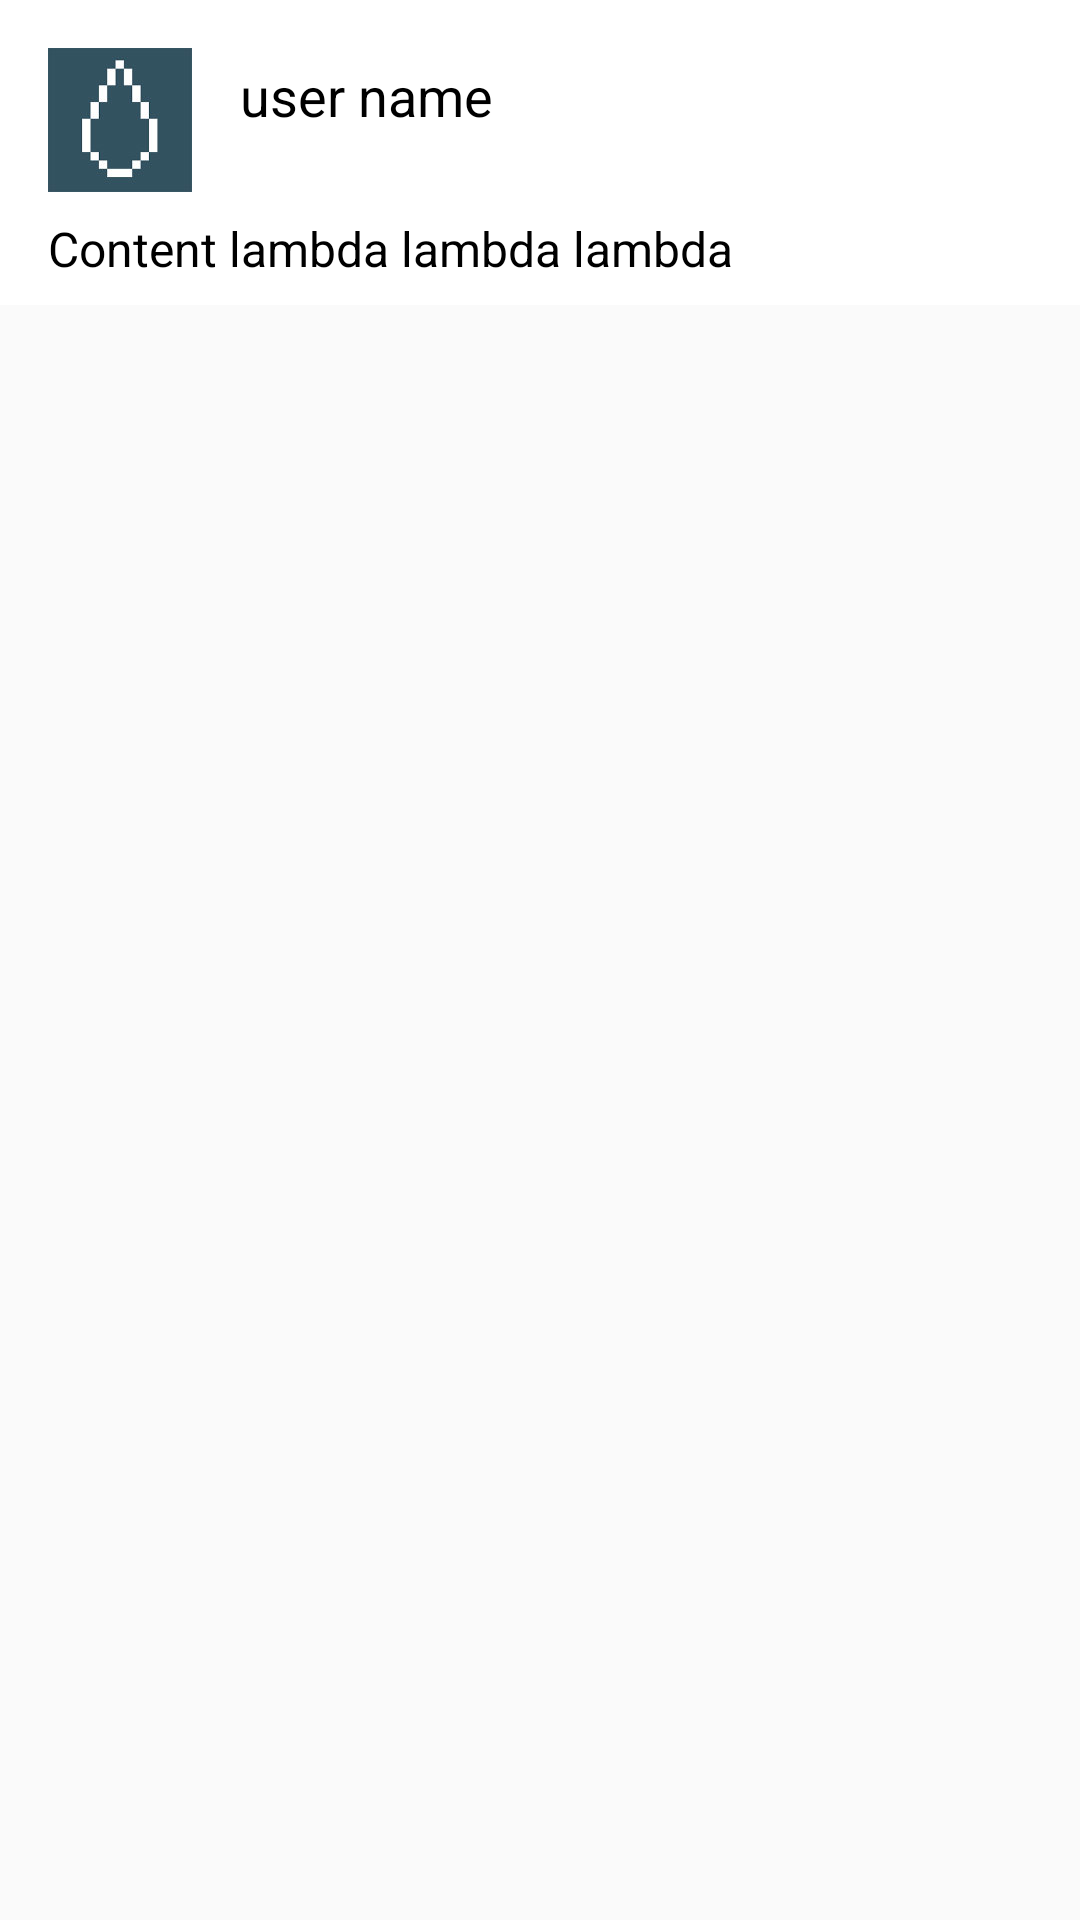

Named icons in this screenshot (1080w x 1920h) and their bounding boxes, (x1, y1, x2, y2):
fluid: (48, 48, 192, 192)
